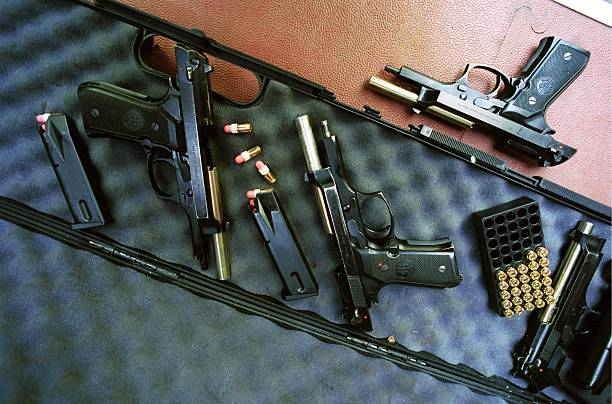pistol: (287, 102, 467, 328), (72, 44, 239, 287), (365, 31, 598, 169), (515, 221, 607, 404)
